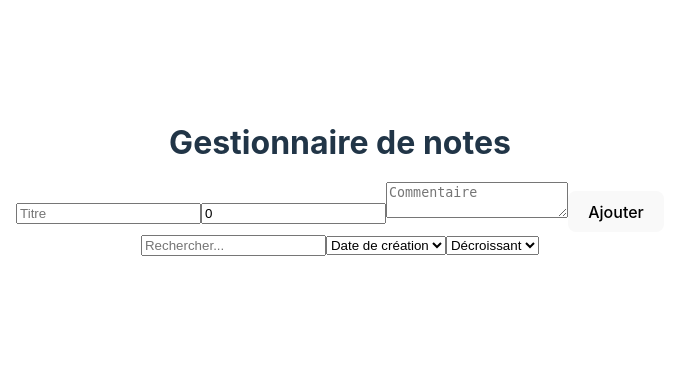
Scenario: NoteApp › supprime une note existante
Type "Titre de la note 1" into the field with test id "input-title".
click(108, 213); type("Titre de la note 1")  # box [16,203,201,224]
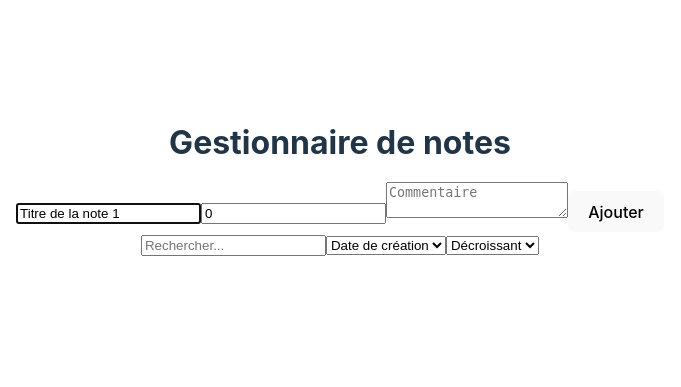
Type "16" into the number field with test id "input-note".
click(294, 213); type("16")  # box [201,203,386,224]
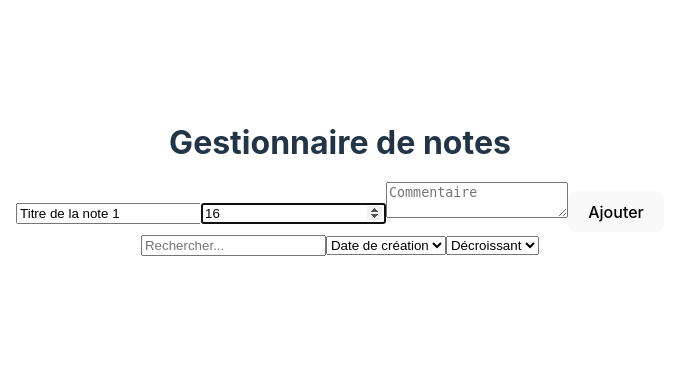
Type "Commentaire de la note 1" into the text box with test id "input-comment".
click(477, 200); type("Commentaire de la note 1")  # box [386,182,568,218]
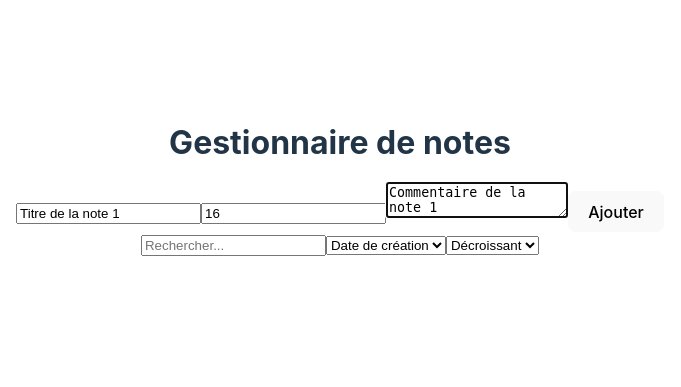
Submit the form with test id "form", box [16,182,664,232]
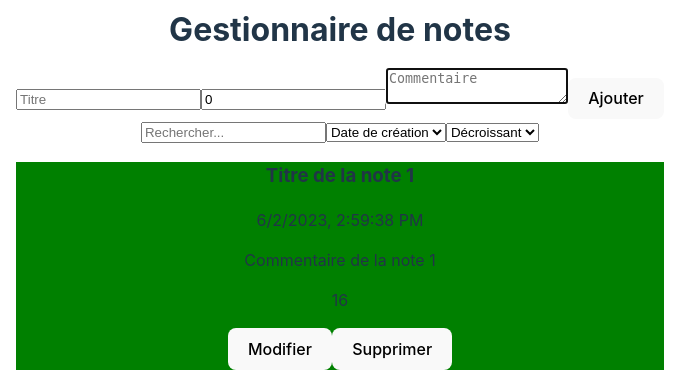
# Clique sur une note pour la supprimer
Click the button "Supprimer".
click(392, 349)  # box [332,328,452,370]
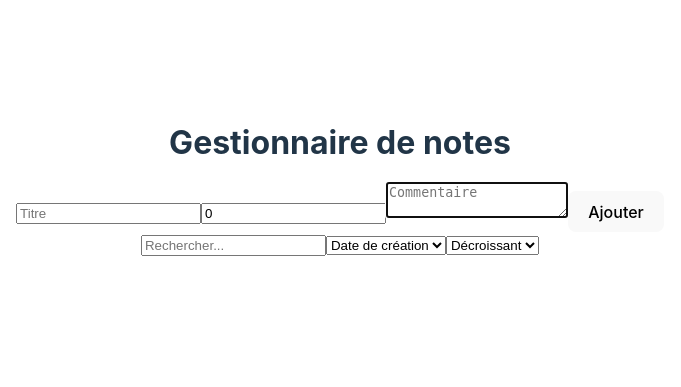
Now the heading "Titre de la note 1" is gone
